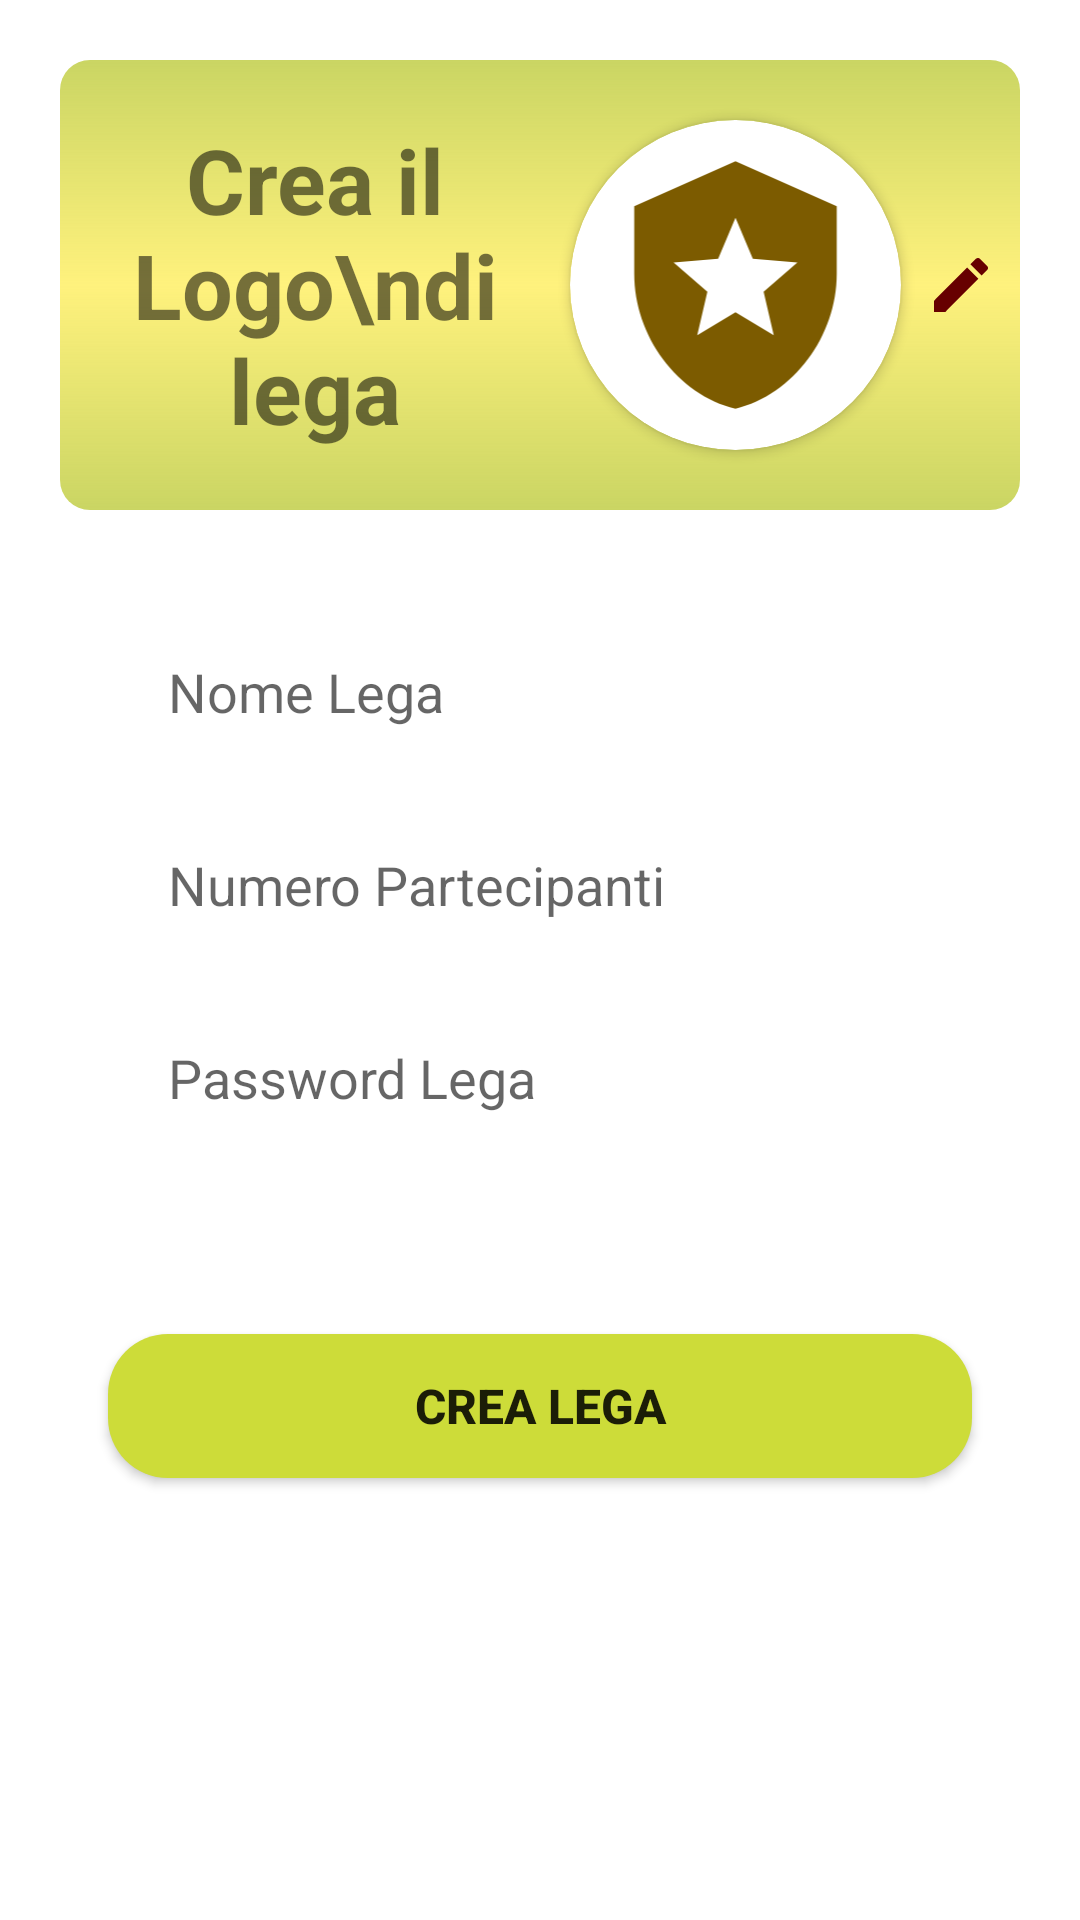

Icon click points for this 1080x1920 phone screenshot, format point (x, y):
local police: point (735, 285)
